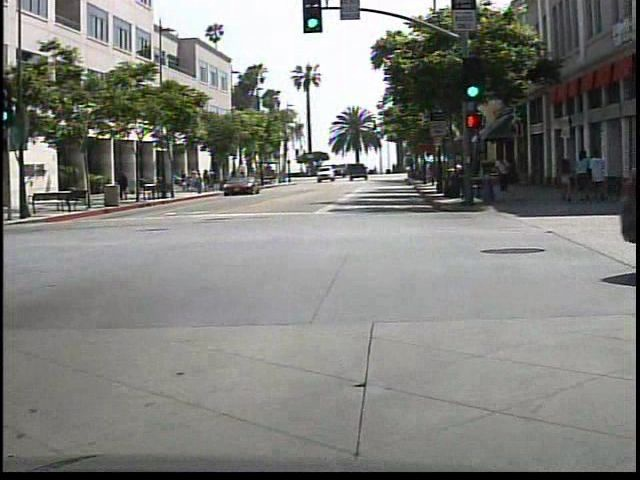person: (490, 151, 514, 196), (115, 163, 133, 205)
